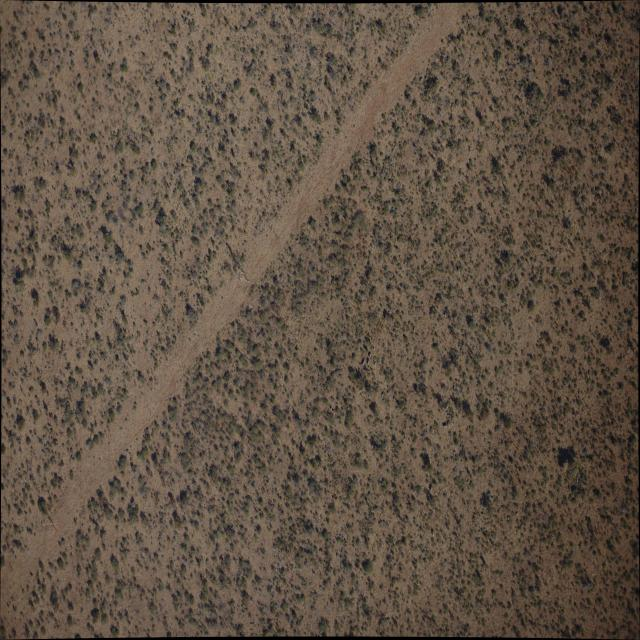elephant: (430, 484, 434, 492), (434, 491, 439, 497), (445, 404, 449, 411), (332, 410, 336, 416), (362, 360, 366, 366), (367, 358, 370, 366), (431, 531, 435, 537), (457, 268, 461, 274), (413, 326, 416, 333), (444, 311, 447, 318), (446, 413, 450, 418), (369, 352, 372, 358), (374, 361, 377, 367), (395, 326, 398, 331), (443, 425, 448, 428), (330, 407, 332, 413), (456, 380, 459, 384), (472, 396, 475, 400), (452, 416, 454, 420)
